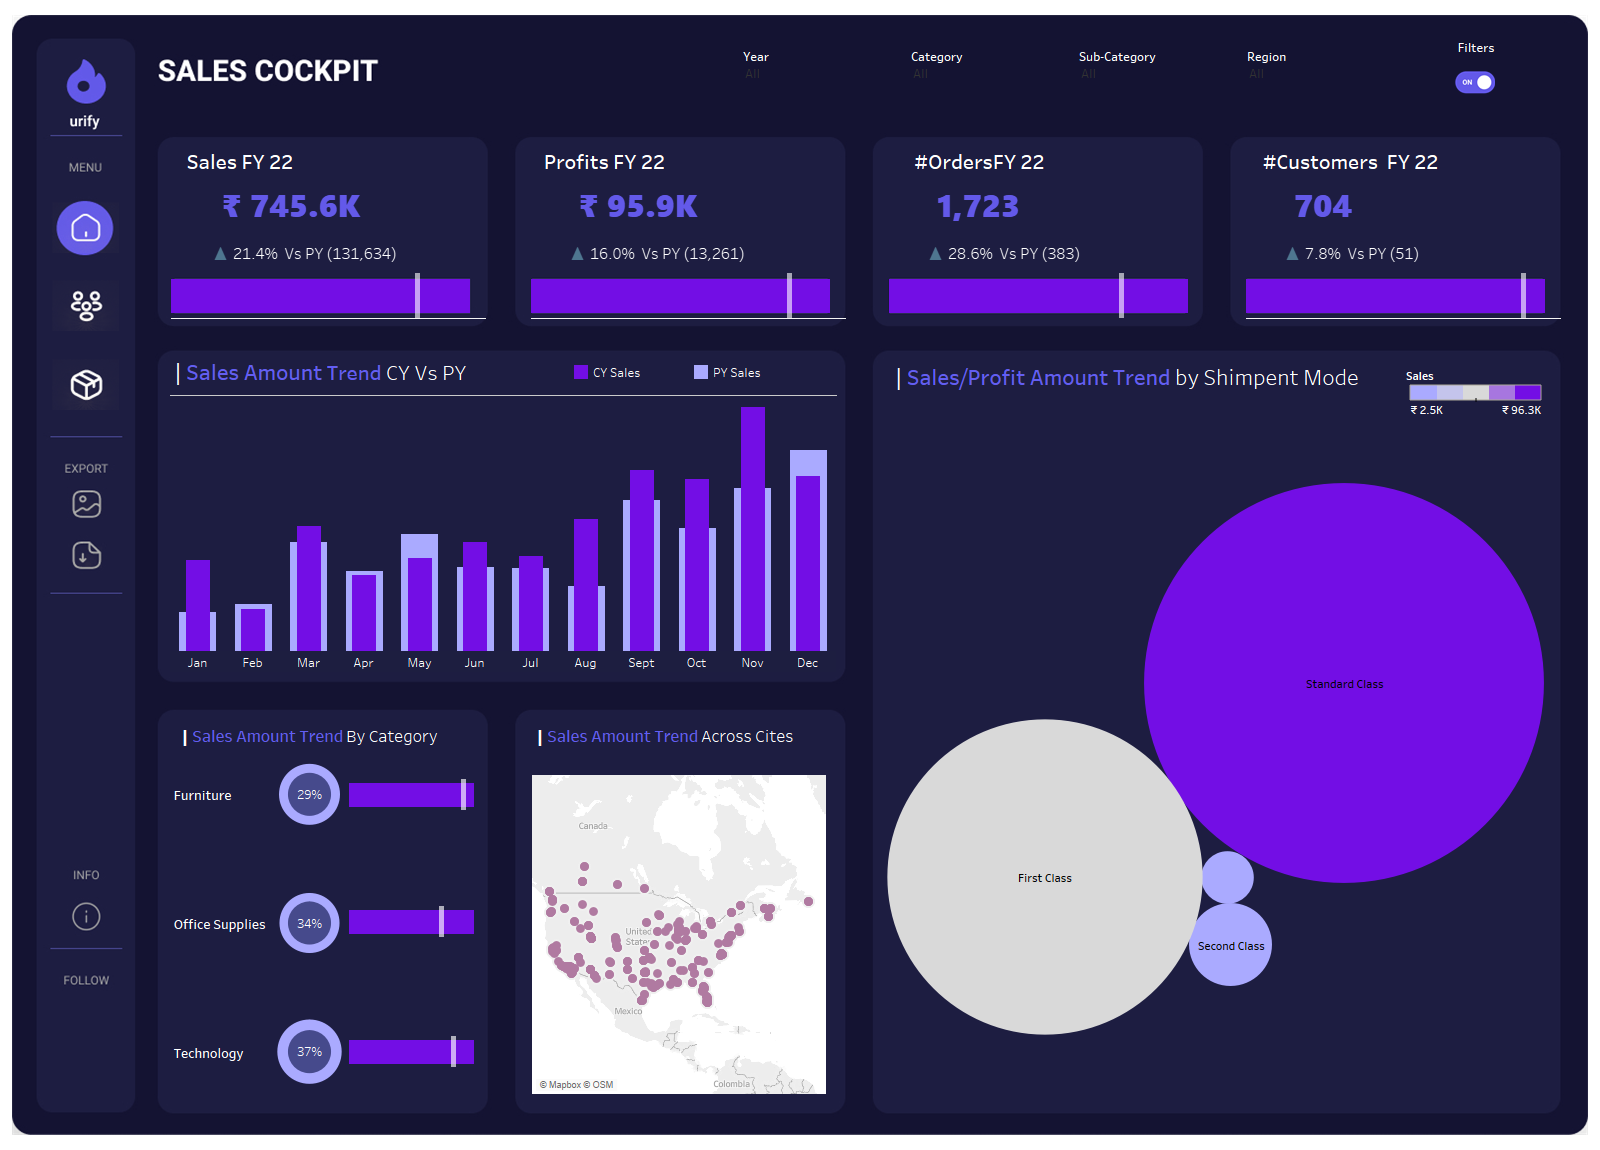

The page's visual inventory and layout, read from the dashboard file:
{"tool":"tableau","page":{"name":"Sales Overview","canvas":[1600,1150],"ordinal":2},"visuals":[{"type":"image","param":"C:/Users/pande/Downloads/Background_Dashboard.jpg","box":[8,8,1584,1134]},{"type":"text","box":[1455,32,100,30]},{"type":"filter","title":"Map (d1)","param":"[federated.12c05b20jxacir17us8sh1i0n8jg].[yr:Order Date:ok]","box":[739,43,168,65]},{"type":"filter","title":"Sales KPI 1","param":"[federated.12c05b20jxacir17us8sh1i0n8jg].[none:Category:nk]","box":[907,43,168,65]},{"type":"filter","title":"Sales KPI 1","param":"[federated.12c05b20jxacir17us8sh1i0n8jg].[none:Sub-Category:nk]","box":[1075,43,168,65]},{"type":"filter","title":"Sales KPI 1","param":"[federated.12c05b20jxacir17us8sh1i0n8jg].[none:Region:nk]","box":[1243,43,165,65]},{"type":"dashboard-object","box":[1455,61,40,42]},{"type":"worksheet","title":"Sales KPI 1","mark":"Automatic","box":[174,141,295,123]},{"type":"worksheet","title":"Profit KPI 1","mark":"Automatic","box":[531,141,295,123]},{"type":"worksheet","title":"#Orders KPI 1","mark":"Automatic","box":[889,141,295,123]},{"type":"worksheet","title":"#Customers KPI 1","mark":"Automatic","box":[1246,141,295,123]},{"type":"dashboard-object","box":[52,194,67,67]},{"type":"dashboard-object","box":[52,272,67,67]},{"type":"worksheet","title":"Sales KPI 2","mark":"Automatic","cols":["Calculation_2154972448666980352"],"box":[171,273,314,45]},{"type":"worksheet","title":"Profit KPI 2","mark":"Automatic","cols":["CY Sales (copy)_2154972448671371270"],"box":[531,273,314,45]},{"type":"worksheet","title":"#Orders KPI 2 ","mark":"Automatic","cols":["CY Sales (copy)_2154972448671924234"],"box":[889,273,314,45]},{"type":"worksheet","title":"#Customers KPI 2","mark":"Automatic","cols":["CY #Orders (copy)_2154972448673271822"],"box":[1246,273,314,45]},{"type":"dashboard-object","box":[52,351,67,67]},{"type":"worksheet","title":"BaR In BAR (D1)","mark":"Bar","rows":["CY Sales (copy)_2154972448667131905","Calculation_2154972448666980352"],"cols":["Order Date"],"box":[170,351,667,322]},{"type":"text","box":[892,356,636,40]},{"type":"legend","title":"BaR In BAR (D1)","param":"[federated.12c05b20jxacir17us8sh1i0n8jg].[:Measure Names]","box":[571,362,263,30]},{"type":"legend","title":"Profit/sales (D1)shiment mode","param":"[federated.12c05b20jxacir17us8sh1i0n8jg].[sum:Sales:qk]","box":[1406,364,140,76]},{"type":"worksheet","title":"Profit/sales (D1)shiment mode","mark":"Circle","box":[886,417,658,685]},{"type":"dashboard-object","box":[73,487,29,32]},{"type":"dashboard-object","box":[73,541,29,32]},{"type":"text","box":[179,721,279,30]},{"type":"text","box":[534,721,279,30]},{"type":"worksheet","title":"pie charts (d1)","mark":"Pie","rows":["Category"],"cols":["Calculation_1584985621828411397","Calculation_1584985621828419591"],"box":[178,730,263,386]},{"type":"worksheet","title":"Map (d1)","mark":"Circle","box":[532,775,294,319]},{"type":"worksheet","title":"F PIE BAR(D1)","mark":"Automatic","rows":["Category"],"cols":["Calculation_2154972448666980352"],"box":[349,779,131,31]},{"type":"text","box":[171,780,100,30]},{"type":"blank","box":[65,854,41,36]},{"type":"worksheet","title":"Icon","mark":"Automatic","rows":["Calculation_1584985621930827798"],"cols":["Calculation_1584985621930827798"],"box":[55,890,64,54]},{"type":"worksheet","title":"OS BAR(D1)","mark":"Automatic","rows":["Category"],"cols":["Calculation_2154972448666980352"],"box":[349,906,131,31]},{"type":"text","box":[171,909,100,30]},{"type":"worksheet","title":"t bAR(D1)","mark":"Automatic","rows":["Category"],"cols":["Calculation_2154972448666980352"],"box":[349,1036,131,31]},{"type":"text","box":[171,1038,100,30]}]}

Visuals, with their boxes in screenshot pixels (x1, y1, x2, y2), scaled from the page's 1600x1150 canvas onto the 1600x1150 screenshot:
image: pyautogui.locateOnScreen(8, 8, 1592, 1142)
text: pyautogui.locateOnScreen(1455, 32, 1555, 62)
"Map (d1)" filter: pyautogui.locateOnScreen(739, 43, 907, 108)
"Sales KPI 1" filter: pyautogui.locateOnScreen(907, 43, 1075, 108)
"Sales KPI 1" filter: pyautogui.locateOnScreen(1075, 43, 1243, 108)
"Sales KPI 1" filter: pyautogui.locateOnScreen(1243, 43, 1408, 108)
dashboard-object: pyautogui.locateOnScreen(1455, 61, 1495, 103)
"Sales KPI 1" worksheet: pyautogui.locateOnScreen(174, 141, 469, 264)
"Profit KPI 1" worksheet: pyautogui.locateOnScreen(531, 141, 826, 264)
"#Orders KPI 1" worksheet: pyautogui.locateOnScreen(889, 141, 1184, 264)
"#Customers KPI 1" worksheet: pyautogui.locateOnScreen(1246, 141, 1541, 264)
dashboard-object: pyautogui.locateOnScreen(52, 194, 119, 261)
dashboard-object: pyautogui.locateOnScreen(52, 272, 119, 339)
"Sales KPI 2" worksheet: pyautogui.locateOnScreen(171, 273, 485, 318)
"Profit KPI 2" worksheet: pyautogui.locateOnScreen(531, 273, 845, 318)
"#Orders KPI 2 " worksheet: pyautogui.locateOnScreen(889, 273, 1203, 318)
"#Customers KPI 2" worksheet: pyautogui.locateOnScreen(1246, 273, 1560, 318)
dashboard-object: pyautogui.locateOnScreen(52, 351, 119, 418)
"BaR In BAR (D1)" worksheet (Bar marks): pyautogui.locateOnScreen(170, 351, 837, 673)
text: pyautogui.locateOnScreen(892, 356, 1528, 396)
"BaR In BAR (D1)" legend: pyautogui.locateOnScreen(571, 362, 834, 392)
"Profit/sales (D1)shiment mode" legend: pyautogui.locateOnScreen(1406, 364, 1546, 440)
"Profit/sales (D1)shiment mode" worksheet (Circle marks): pyautogui.locateOnScreen(886, 417, 1544, 1102)
dashboard-object: pyautogui.locateOnScreen(73, 487, 102, 519)
dashboard-object: pyautogui.locateOnScreen(73, 541, 102, 573)
text: pyautogui.locateOnScreen(179, 721, 458, 751)
text: pyautogui.locateOnScreen(534, 721, 813, 751)
"pie charts (d1)" worksheet (Pie marks): pyautogui.locateOnScreen(178, 730, 441, 1116)
"Map (d1)" worksheet (Circle marks): pyautogui.locateOnScreen(532, 775, 826, 1094)
"F PIE BAR(D1)" worksheet: pyautogui.locateOnScreen(349, 779, 480, 810)
text: pyautogui.locateOnScreen(171, 780, 271, 810)
blank: pyautogui.locateOnScreen(65, 854, 106, 890)
"Icon" worksheet: pyautogui.locateOnScreen(55, 890, 119, 944)
"OS BAR(D1)" worksheet: pyautogui.locateOnScreen(349, 906, 480, 937)
text: pyautogui.locateOnScreen(171, 909, 271, 939)
"t bAR(D1)" worksheet: pyautogui.locateOnScreen(349, 1036, 480, 1067)
text: pyautogui.locateOnScreen(171, 1038, 271, 1068)
